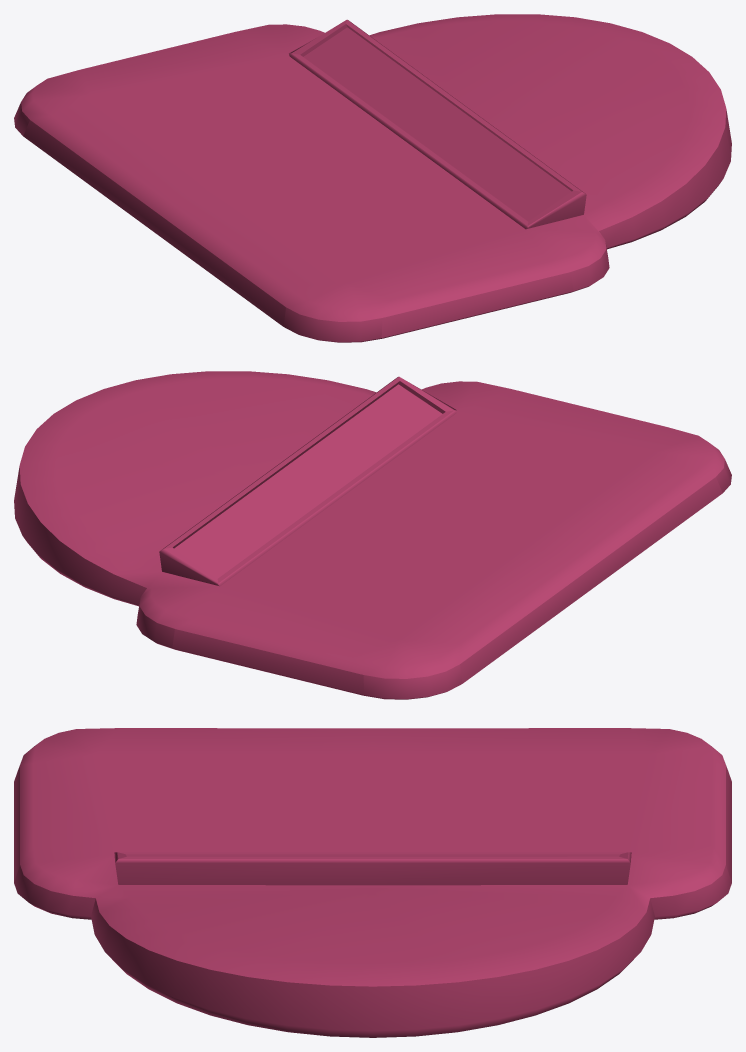
File: Code_Machine_02.fbx
3 views of the same model, one above another, from view 1: azimuth 30°, elevation 25°; view 2: azimuth 150°, elevation 25°; view 3: azimuth 270°, elevation 25° (orthographic). The views are drawn at different scales.
Parts seen in each view (by area): view 1: Code_Machine_02; view 2: Code_Machine_02; view 3: Code_Machine_02.
Part boxes in pixels (box(x1,y1,x2,y2)): Code_Machine_02: box(14, 14, 731, 342); Code_Machine_02: box(14, 371, 731, 699); Code_Machine_02: box(14, 728, 731, 1037).
Bounding box in the file's own units: 28.72 × 2.72 × 30.32.
